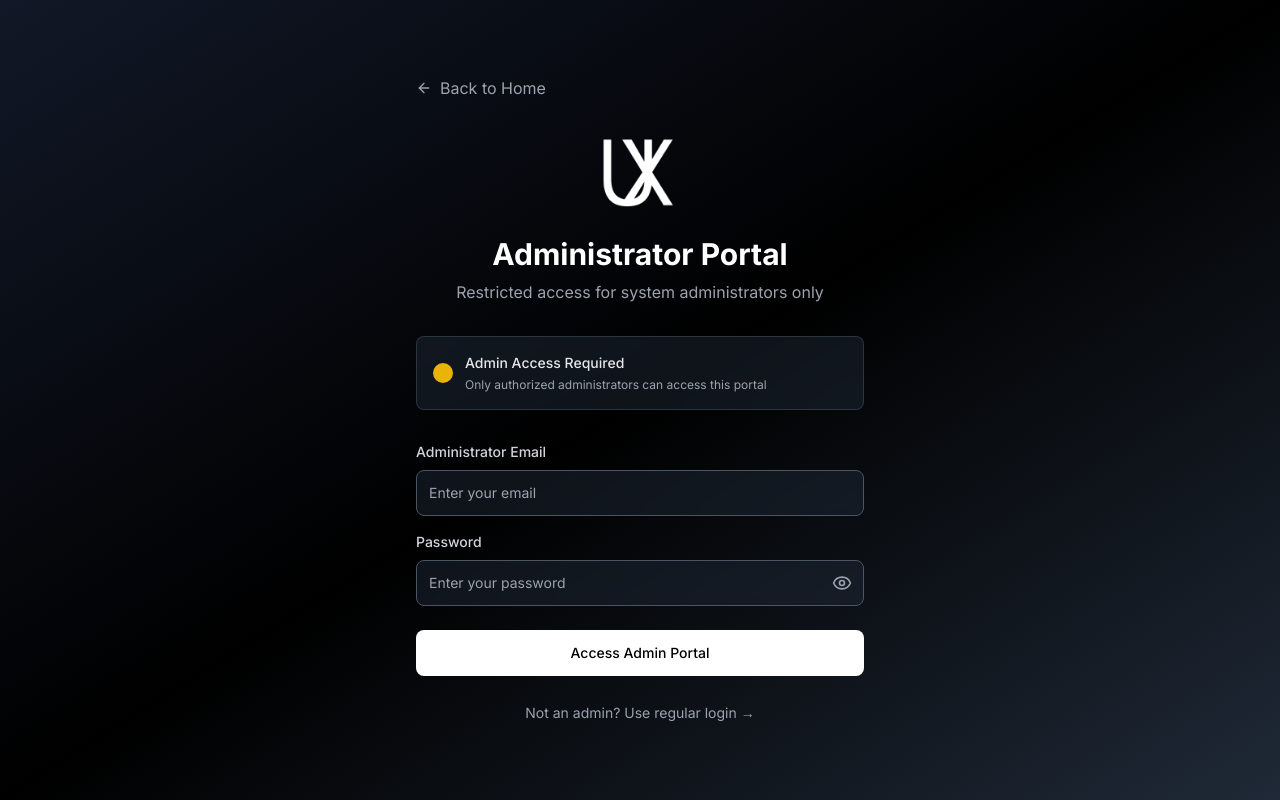
Scenario: AdminLoginPage › Authentication Flow › handles invalid credentials
This screenshot has width=1280, height=800.
Type "wrong@email.com" into the field labelled "Administrator Email" at (640, 493), box [416,470,864,516]
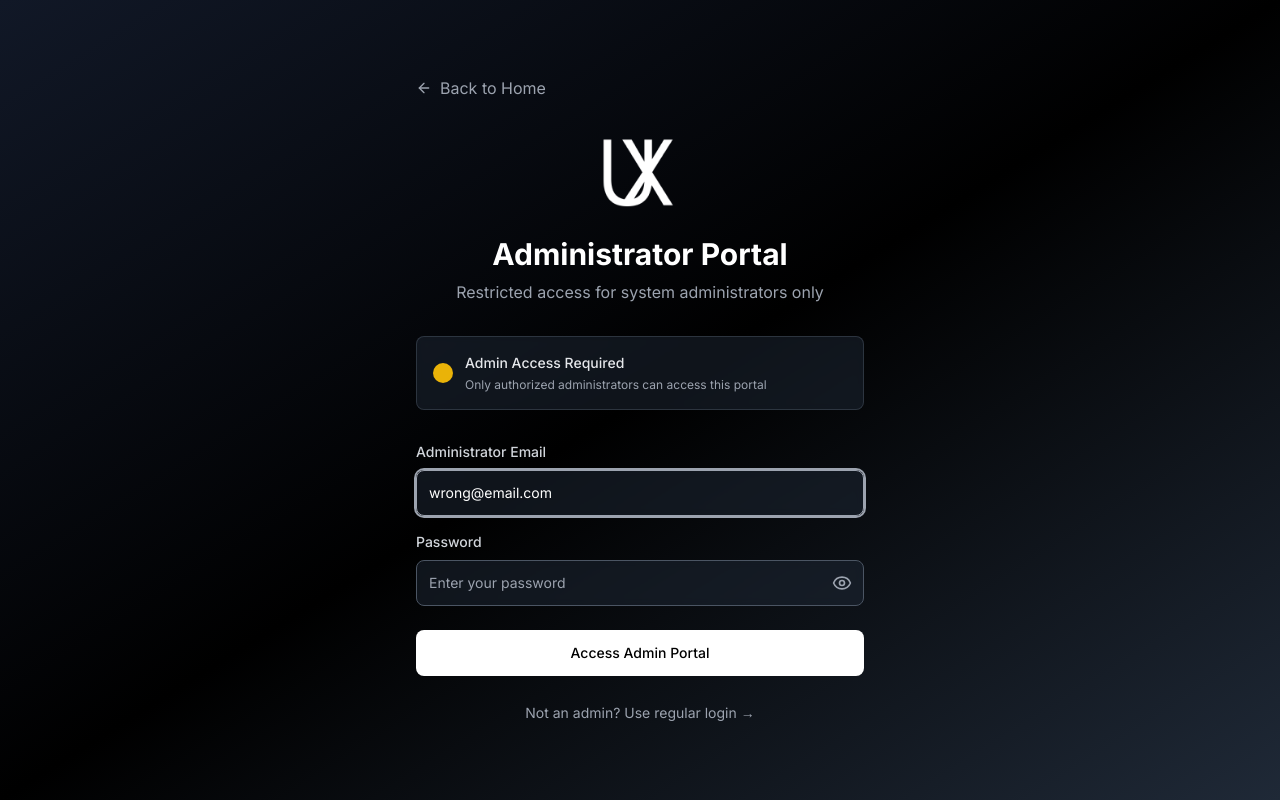
Type "wrongpassword" into the password field labelled "Password" at (640, 583), box [416,560,864,606]
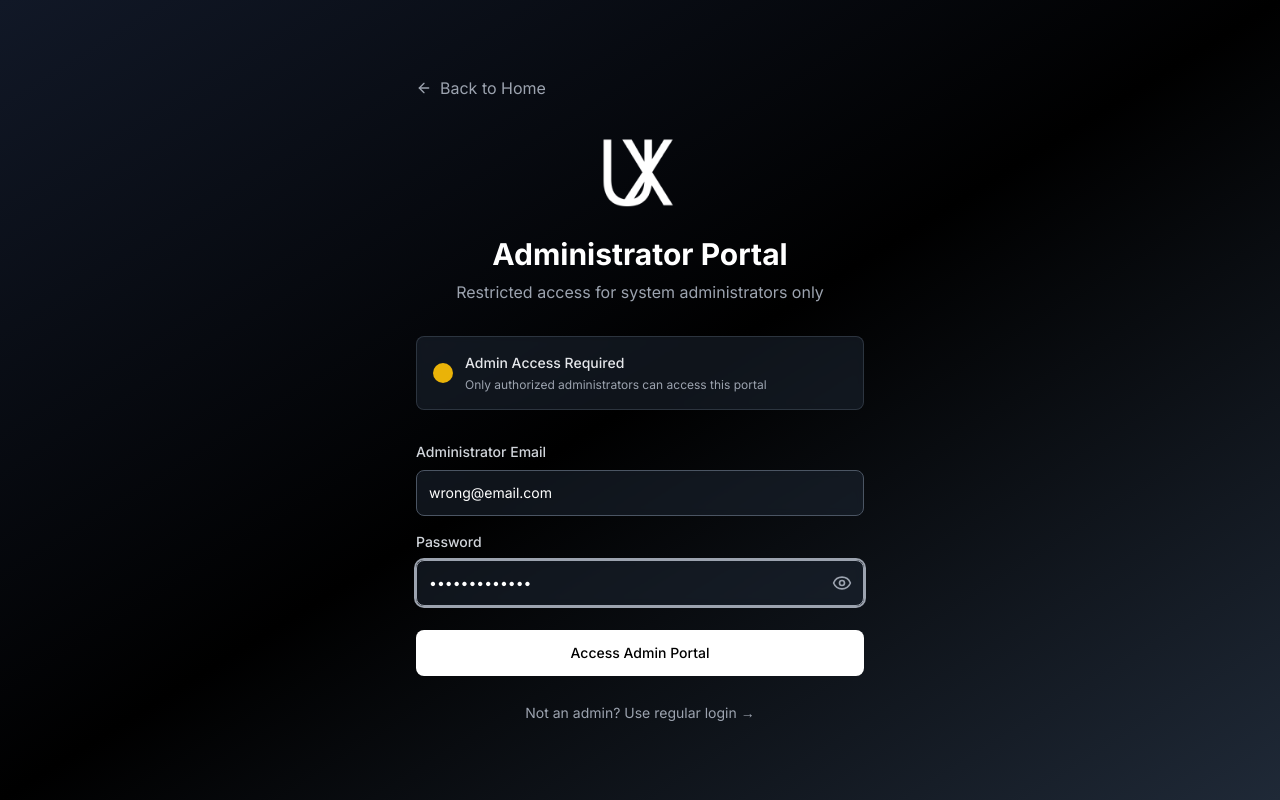
Click the button "Access Admin Portal" at (640, 653), box [416,630,864,676]
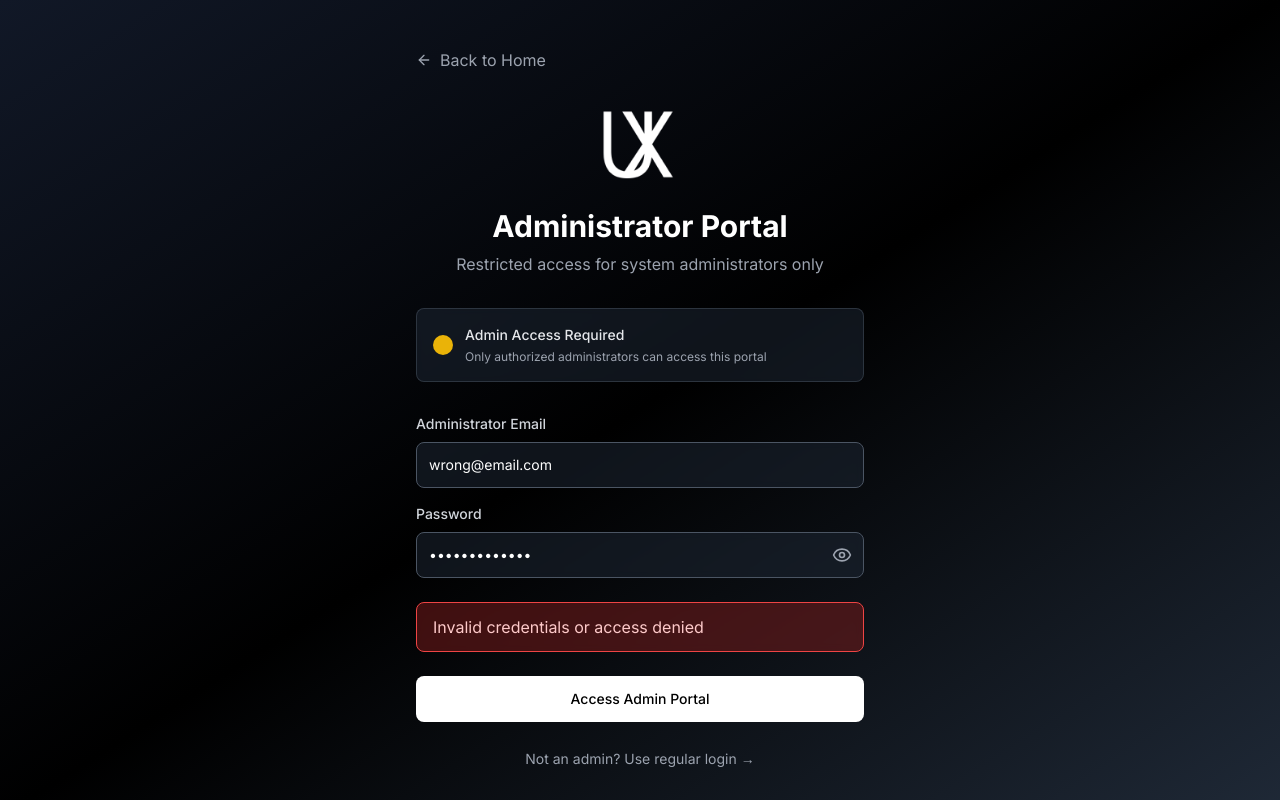
Expected: the text "Invalid credentials or access denied" is shown, [416,602,864,652]
